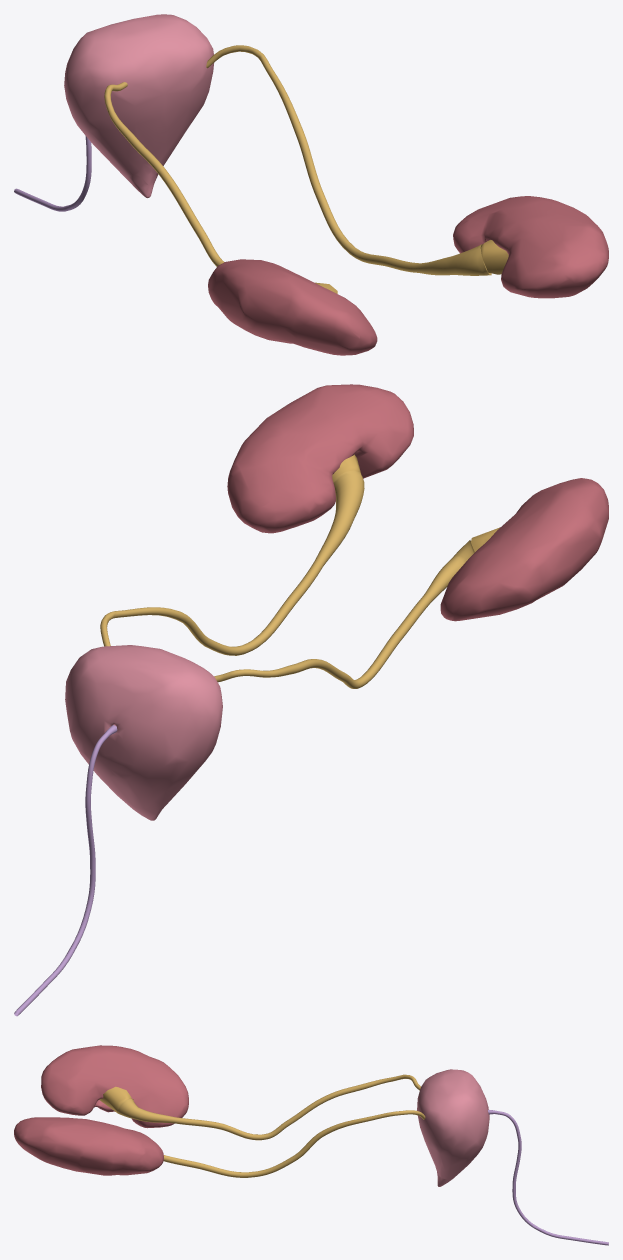
Rendered from urinary.glb.
3 renders of one model, top to bottom at view 1: azimuth 30°, elevation 25°; view 2: azimuth 150°, elevation 25°; view 3: azimuth 270°, elevation 25°, orthographic. The views are drawn at different scales.
Parts seen in each view (by area): view 1: 膀胱, 左侧肾, 右侧肾, 左侧输尿管, 右侧输尿管, 尿道, 左侧肾盂; view 2: 膀胱, 左侧肾, 右侧肾, 左侧输尿管, 右侧输尿管, 尿道; view 3: 右侧肾, 左侧肾, 膀胱, 右侧输尿管, 左侧输尿管, 尿道, 右侧肾盂.
Part boxes in pixels (bbox=[...]): 膀胱: bbox=[64, 14, 213, 198]; 左侧肾: bbox=[453, 196, 608, 298]; 右侧肾: bbox=[208, 259, 377, 355]; 左侧输尿管: bbox=[206, 45, 491, 275]; 右侧输尿管: bbox=[104, 82, 224, 266]; 尿道: bbox=[14, 135, 91, 211]; 左侧肾盂: bbox=[480, 240, 508, 274]; 膀胱: bbox=[65, 645, 222, 820]; 左侧肾: bbox=[227, 384, 413, 533]; 右侧肾: bbox=[440, 478, 608, 621]; 左侧输尿管: bbox=[100, 470, 364, 655]; 右侧输尿管: bbox=[214, 540, 474, 688]; 尿道: bbox=[14, 725, 117, 1016]; 右侧肾: bbox=[41, 1045, 188, 1128]; 左侧肾: bbox=[14, 1117, 163, 1175]; 膀胱: bbox=[417, 1069, 489, 1186]; 右侧输尿管: bbox=[117, 1074, 420, 1140]; 左侧输尿管: bbox=[163, 1110, 425, 1177]; 尿道: bbox=[488, 1109, 608, 1245]; 右侧肾盂: bbox=[99, 1086, 131, 1113].
Bounding box in the file's own units: 0.2624 × 0.1902 × 0.6192.
